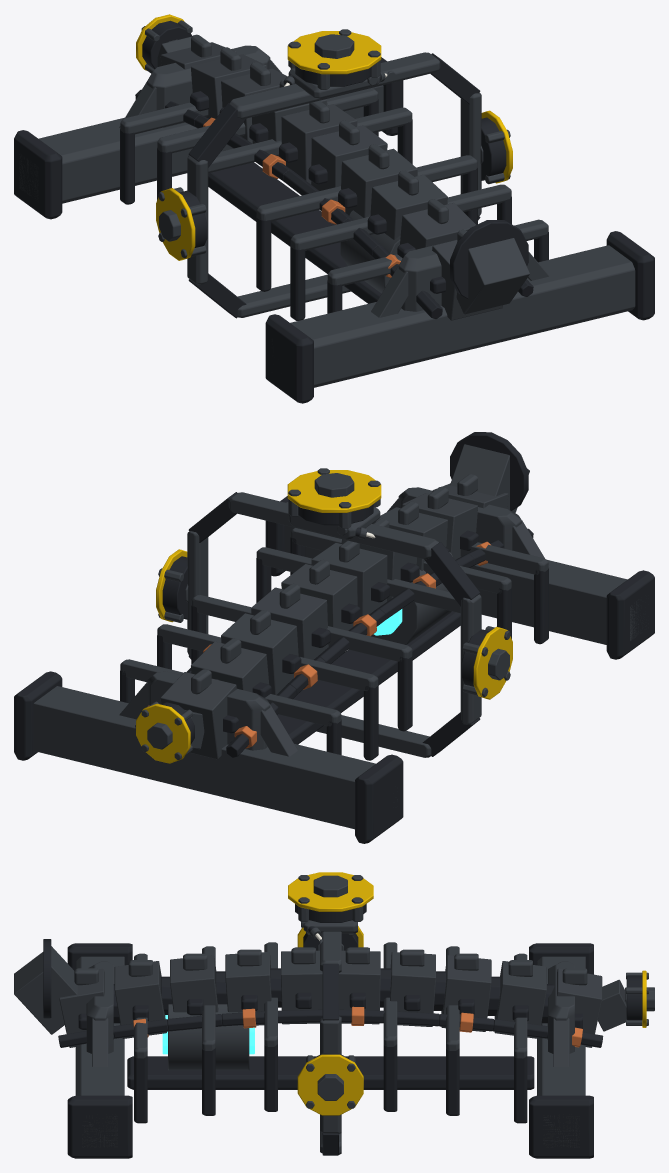
The model's file is Skel_TorsoAnimal_Heavy.fbx.
The picture shows the model from 3 angles, top to bottom: view 1: azimuth 30°, elevation 25°; view 2: azimuth 150°, elevation 25°; view 3: azimuth 270°, elevation 25°; orthographic projection. The views are drawn at different scales.
Parts seen in each view (by area): view 1: Skel_TorsoAnimal_Heavy; view 2: Skel_TorsoAnimal_Heavy; view 3: Skel_TorsoAnimal_Heavy.
Boxes of the visible parts, x1=… form: Skel_TorsoAnimal_Heavy: x1=14, y1=14, x2=654, y2=403; Skel_TorsoAnimal_Heavy: x1=14, y1=432, x2=654, y2=843; Skel_TorsoAnimal_Heavy: x1=14, y1=872, x2=654, y2=1158.
Bounding box in the file's own units: 1.4 × 0.93 × 2.36.
